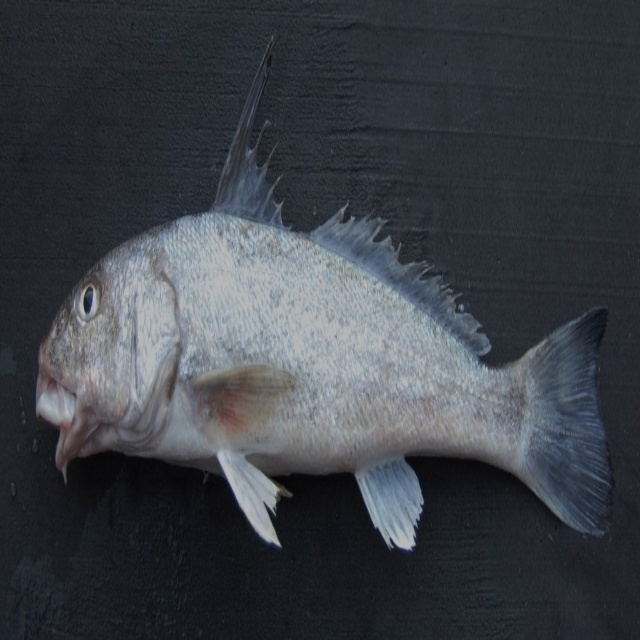Fish: (33, 125, 616, 558)
